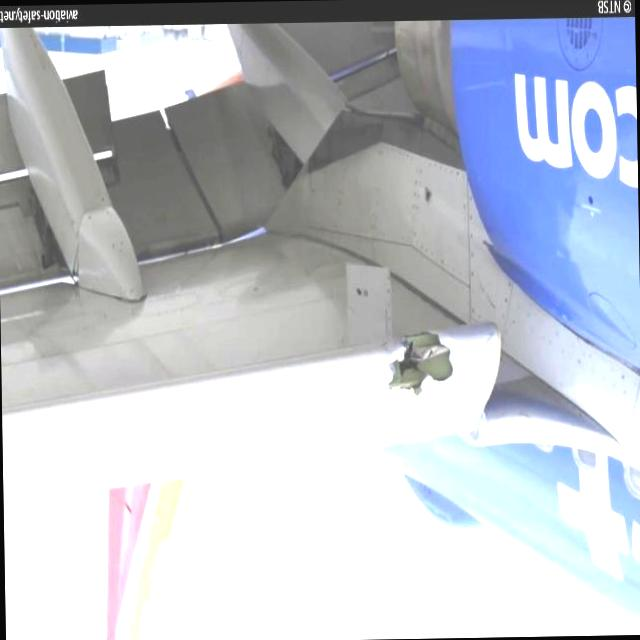crack: (386, 322, 452, 396)
